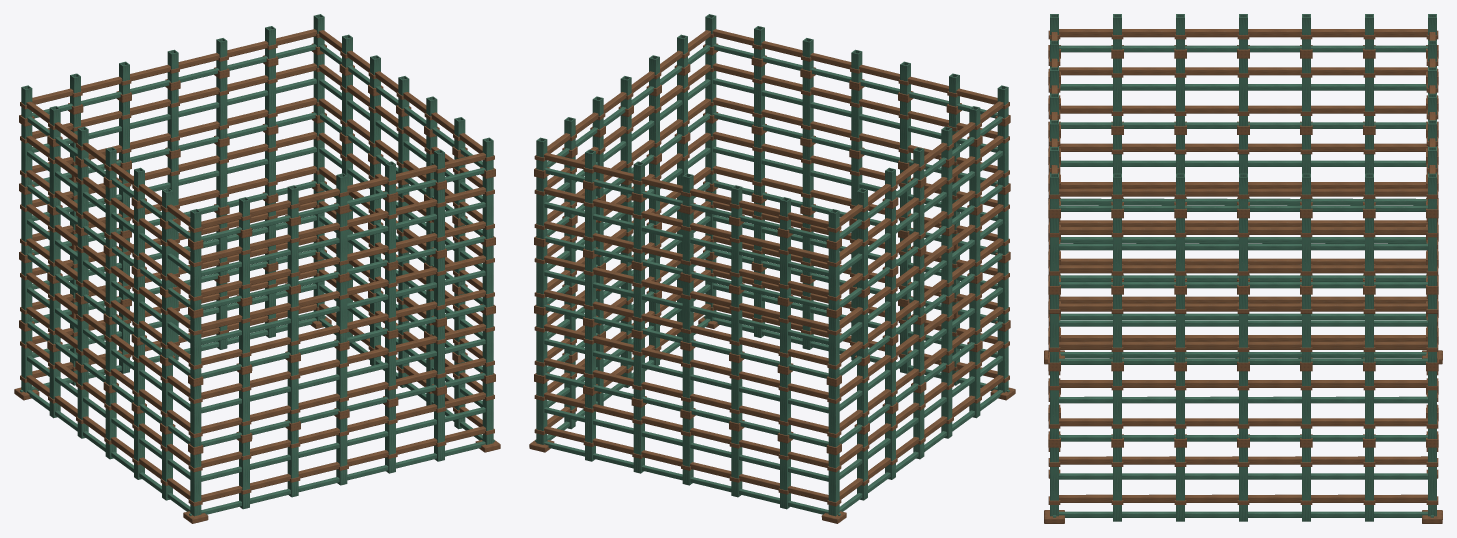
The picture shows the model from 3 angles, left to right: view 1: azimuth 30°, elevation 25°; view 2: azimuth 150°, elevation 25°; view 3: azimuth 270°, elevation 25°; orthographic projection. The views are drawn at different scales.
Parts seen in each view (by area): view 1: Tier 0 side 0 post 3, Tier 0 side 0 post 0, Tier 0 side 0 post 2, Tier 2 side 0 post 0, Tier 3 side 0 post 0, Tier 1 side 0 post 0, Tier 0 side 0 post 5, Tier 3 side 2 post 2, Tier 0 side 1 post 0, Tier 0 side 3 post 3, Tier 2 side 2 post 2, Tier 0 side 0 post 1 (+37 smaller); view 2: Tier 0 side 2 post 2, Tier 0 side 2 post 3, Tier 0 side 3 post 0, Tier 0 side 2 post 4, Tier 2 side 3 post 0, Tier 3 side 3 post 0, Tier 1 side 3 post 0, Tier 0 side 2 post 1, Tier 3 side 2 post 2, Tier 1 side 2 post 2, Tier 3 side 0 post 4, Tier 0 side 2 post 0 (+34 smaller); view 3: Tier 0 side 1 post 1, Tier 0 side 1 post 2, Tier 0 side 1 post 3, Tier 0 side 1 post 4, Tier 0 side 1 post 5, Tier 3 side 3 post 1, Tier 3 side 3 post 2, Tier 3 side 3 post 3, Tier 3 side 3 post 4, Tier 3 side 3 post 5, Tier 0 side 1 post 0, Tier 0 side 2 post 0 (+81 smaller).
Part boxes in pixels (left/top/right/bottom): Tier 0 side 0 post 3: left=336, top=417, right=347, bottom=485; Tier 0 side 0 post 0: left=190, top=453, right=201, bottom=516; Tier 0 side 0 post 2: left=287, top=429, right=298, bottom=497; Tier 2 side 0 post 0: left=190, top=316, right=201, bottom=378; Tier 3 side 0 post 0: left=190, top=248, right=201, bottom=310; Tier 1 side 0 post 0: left=190, top=385, right=201, bottom=447; Tier 0 side 0 post 5: left=434, top=394, right=444, bottom=461; Tier 3 side 2 post 2: left=216, top=77, right=227, bottom=139; Tier 0 side 1 post 0: left=482, top=382, right=493, bottom=444; Tier 0 side 3 post 3: left=105, top=391, right=116, bottom=459; Tier 2 side 2 post 2: left=216, top=145, right=227, bottom=207; Tier 0 side 0 post 1: left=239, top=441, right=249, bottom=509; Tier 0 side 2 post 2: left=633, top=405, right=644, bottom=473; Tier 0 side 2 post 3: left=682, top=417, right=693, bottom=485; Tier 0 side 3 post 0: left=828, top=453, right=839, bottom=516; Tier 0 side 2 post 4: left=731, top=429, right=742, bottom=497; Tier 2 side 3 post 0: left=828, top=316, right=839, bottom=378; Tier 3 side 3 post 0: left=828, top=248, right=839, bottom=310; Tier 1 side 3 post 0: left=828, top=385, right=839, bottom=447; Tier 0 side 2 post 1: left=585, top=394, right=595, bottom=461; Tier 3 side 2 post 2: left=633, top=200, right=644, bottom=262; Tier 1 side 2 post 2: left=633, top=337, right=644, bottom=399; Tier 3 side 0 post 4: left=802, top=77, right=813, bottom=139; Tier 0 side 2 post 0: left=536, top=382, right=547, bottom=444; Tier 0 side 1 post 1: left=1113, top=447, right=1121, bottom=521; Tier 0 side 1 post 2: left=1176, top=447, right=1184, bottom=521; Tier 0 side 1 post 3: left=1239, top=447, right=1247, bottom=521; Tier 0 side 1 post 4: left=1302, top=447, right=1310, bottom=521; Tier 0 side 1 post 5: left=1365, top=447, right=1373, bottom=521; Tier 3 side 3 post 1: left=1365, top=58, right=1373, bottom=126; Tier 3 side 3 post 2: left=1302, top=58, right=1310, bottom=126; Tier 3 side 3 post 3: left=1239, top=58, right=1247, bottom=126; Tier 3 side 3 post 4: left=1176, top=58, right=1184, bottom=126; Tier 3 side 3 post 5: left=1113, top=58, right=1121, bottom=126; Tier 0 side 1 post 0: left=1050, top=447, right=1058, bottom=516; Tier 0 side 2 post 0: left=1428, top=447, right=1436, bottom=516.
Bounding box in the file's own units: 2.85 × 2.72 × 2.85.
2 materials, 2 textured.
